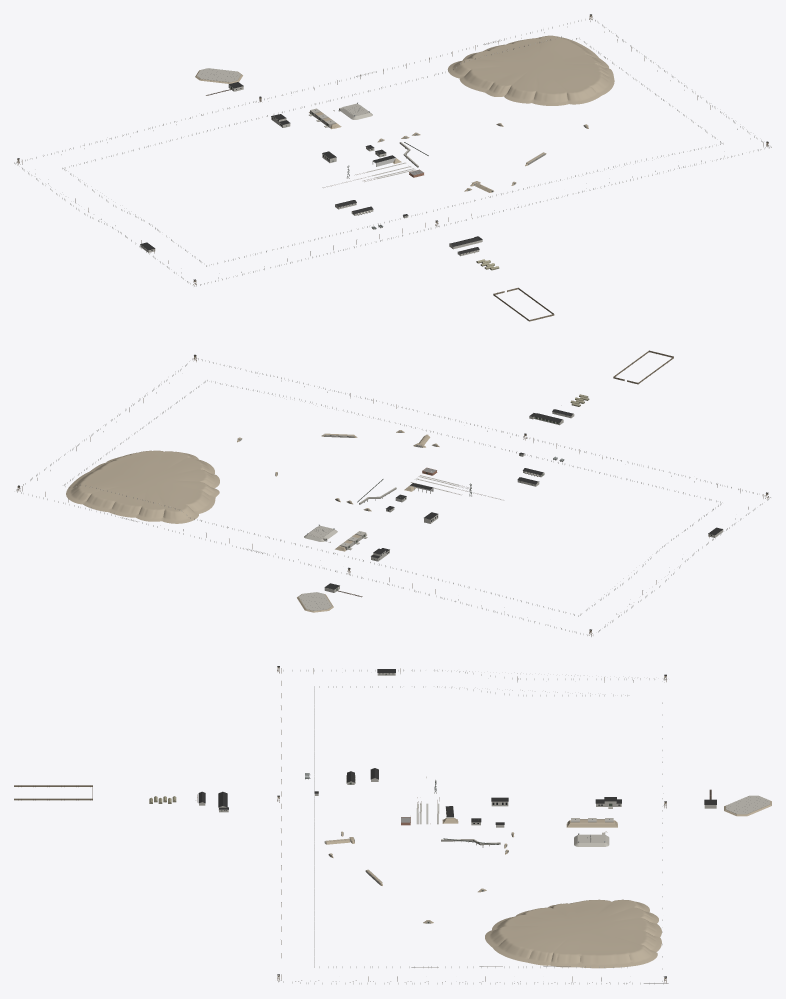
3 views of the same model, one above another, from view 1: azimuth 30°, elevation 25°; view 2: azimuth 150°, elevation 25°; view 3: azimuth 270°, elevation 25° (orthographic). The views are drawn at different scales.
Visible parts, largest first — view 1: SpoilHeap_Earth; view 2: SpoilHeap_Earth; view 3: SpoilHeap_Earth, Site51_ConcretePad.
Part boxes in pixels (box(x1,y1,x2,y2)): SpoilHeap_Earth: box(447, 35, 614, 105); SpoilHeap_Earth: box(66, 450, 219, 523); SpoilHeap_Earth: box(485, 899, 661, 968); Site51_ConcretePad: box(726, 795, 769, 814).
Bounding box in the file's own units: 922 × 34.08 × 953.
